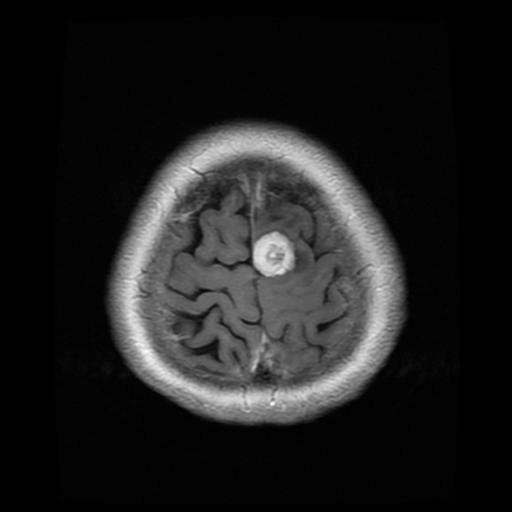Tumour-Meningioma: (247, 231, 307, 285)
